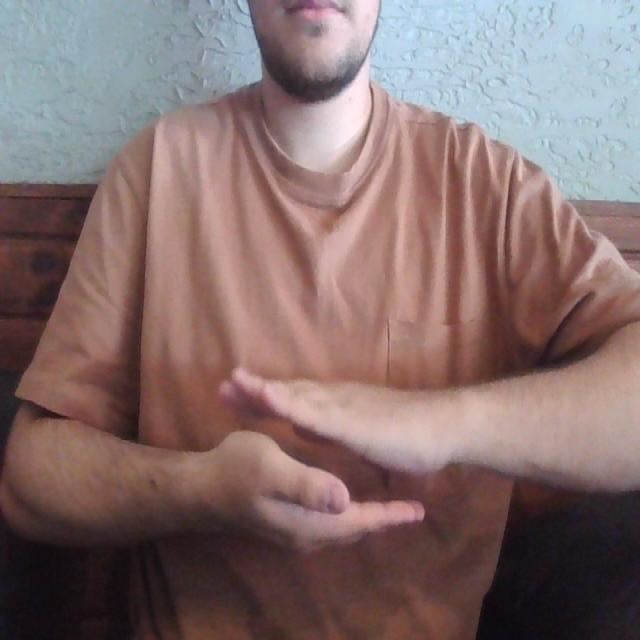Arkadas: (74, 359, 558, 562)
